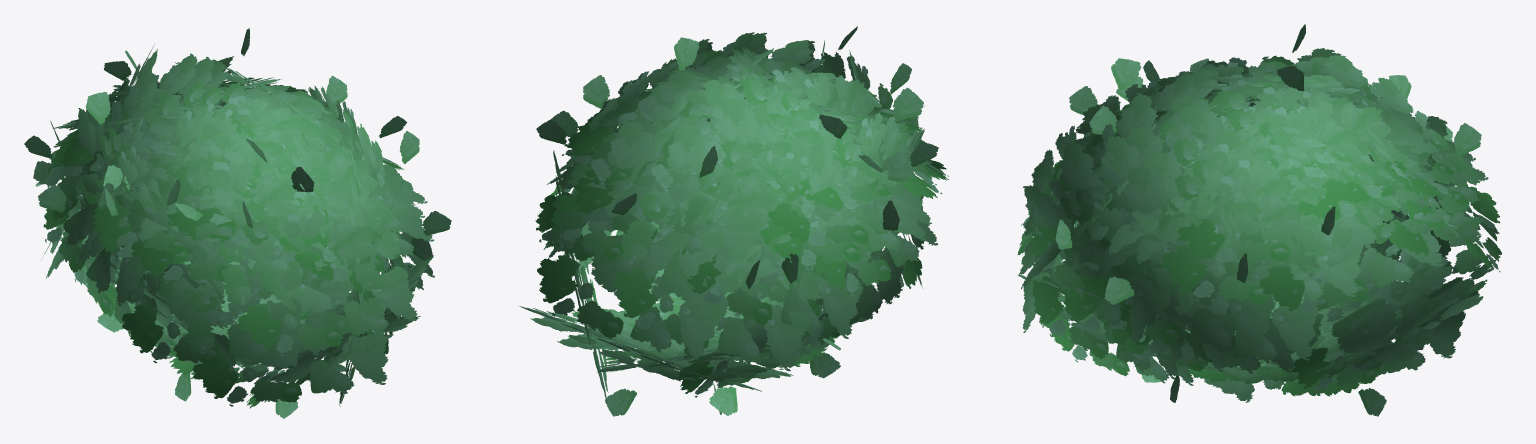
The model's file is Buisson_1.fbx.
3 views of the same model, side by side, from view 1: azimuth 30°, elevation 25°; view 2: azimuth 150°, elevation 25°; view 3: azimuth 270°, elevation 25° (orthographic). The views are drawn at different scales.
Visible parts, largest first — view 1: Buisson_1, Buisson_1_Feuilles; view 2: Buisson_1, Buisson_1_Feuilles; view 3: Buisson_1, Buisson_1_Feuilles.
Part boxes in pixels (x1,y1,x2,y2): Buisson_1: (35,46,434,408); Buisson_1_Feuilles: (24,28,451,418); Buisson_1: (519,32,948,406); Buisson_1_Feuilles: (536,26,938,416); Buisson_1: (1017,48,1501,402); Buisson_1_Feuilles: (1047,24,1481,416).
Bounding box in the file's own units: 171 × 155 × 200.
